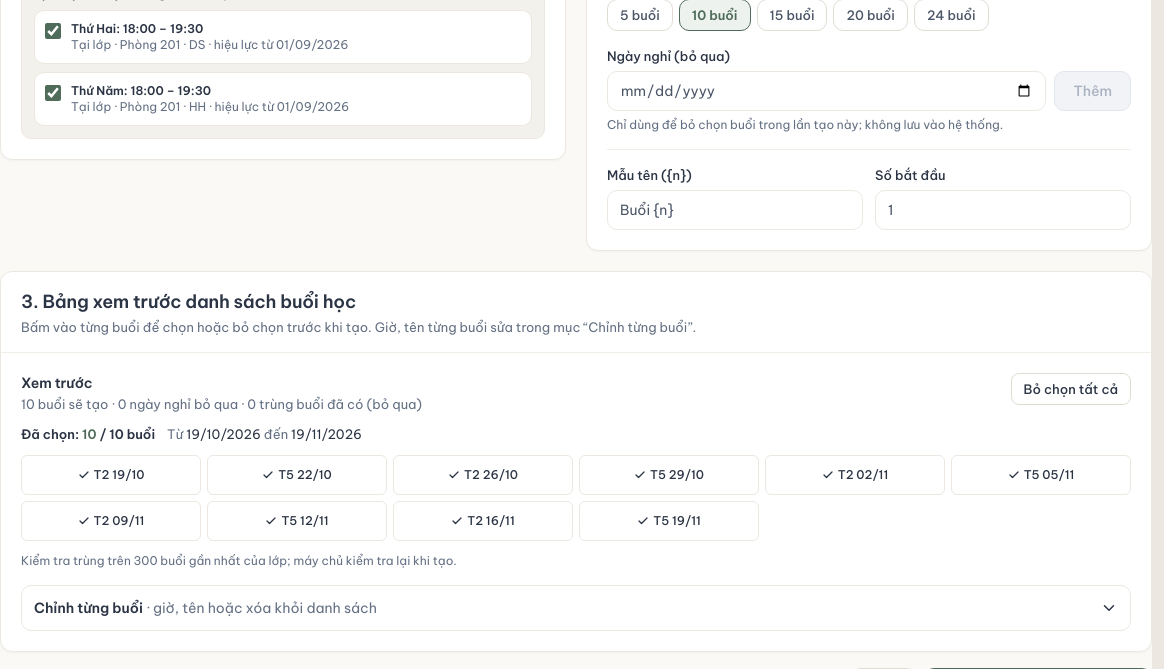
Test: BatchSessionCreateWorkspace — design 17b preview › makes each chip the session's checkbox and keeps per-session edits in a closed disclosure
(page scrolled)
Expected: the checkbox named "Chọn buổi học ngày" reads "T2 19/10", [94,467,144,482]
Expected: the checkbox named "Chọn buổi học ngày" reads "T5 22/10", [278,467,332,482]
Click the heading "Chỉnh từng buổi · giờ, tên hoặc xóa khỏi danh sách".
click(90, 608)  # box [34,599,1118,617]
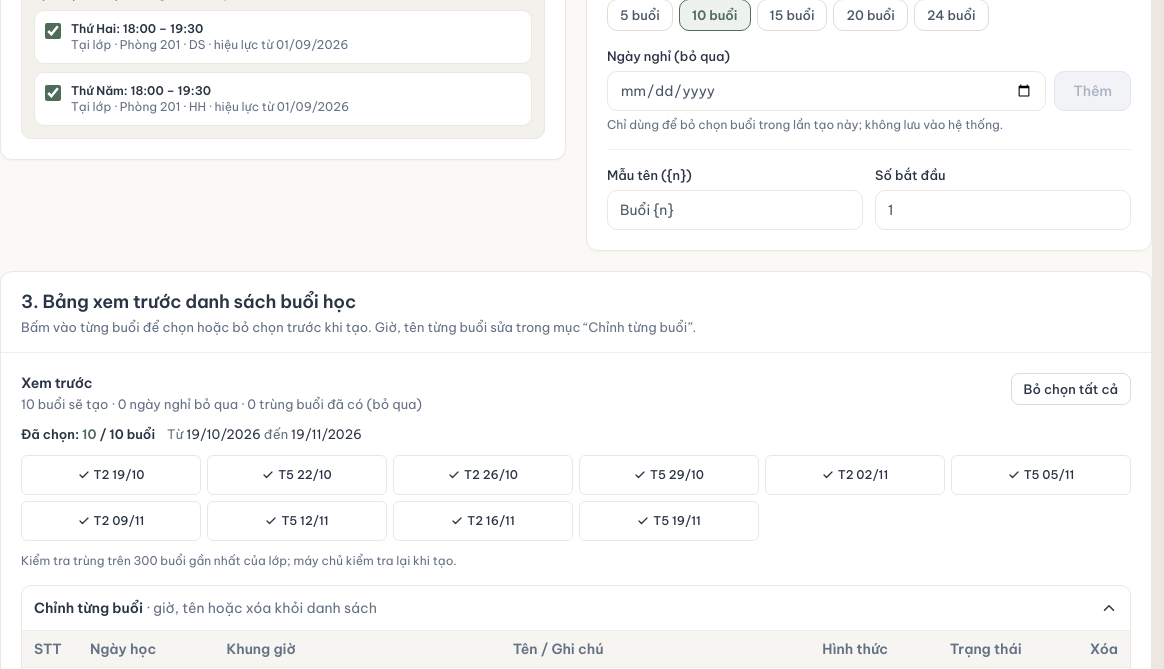
Expected: the text "buổi sẽ tạo" reads "10 buổi sẽ tạo · 0 ngày nghỉ bỏ qua · 0 trùng buổi đã có (bỏ qua)", [21,395,422,413]
Result: the number of fields named "Sửa giờ bắt đầu" is 10
Result: the number of fields named "Sửa giờ kết thúc" is 10
